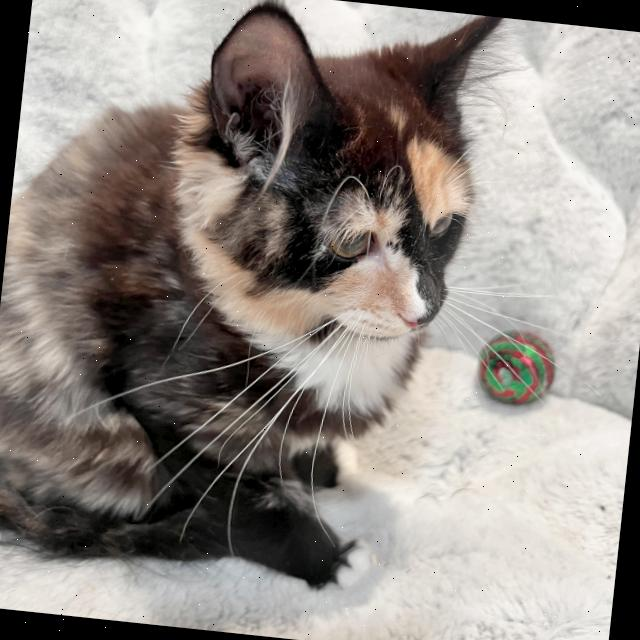calico_cat: (135, 0, 524, 370)
